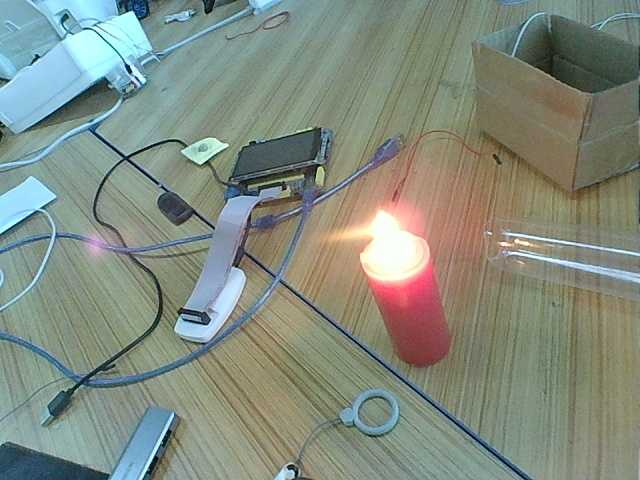candle: (363, 265, 451, 366)
fire: (354, 206, 428, 265)
